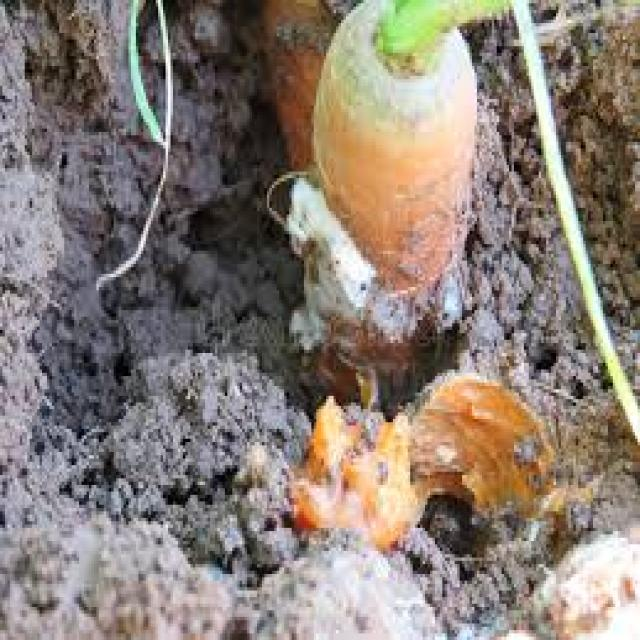Stale_Carrot: (285, 0, 491, 418)
